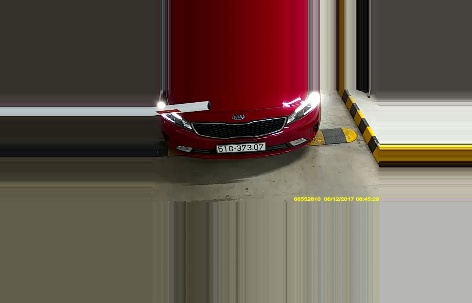plate: (218, 139, 269, 157)
